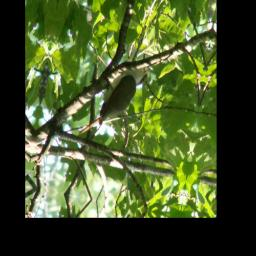Cuckoo: (77, 54, 151, 149)
